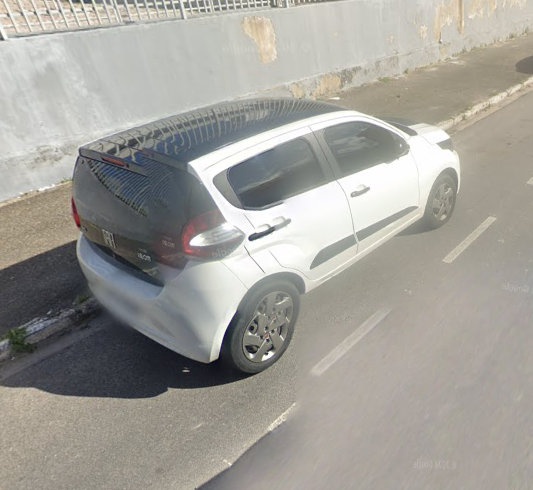car: (67, 92, 462, 376)
